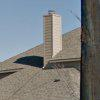Chimney: (36, 6, 62, 65)
